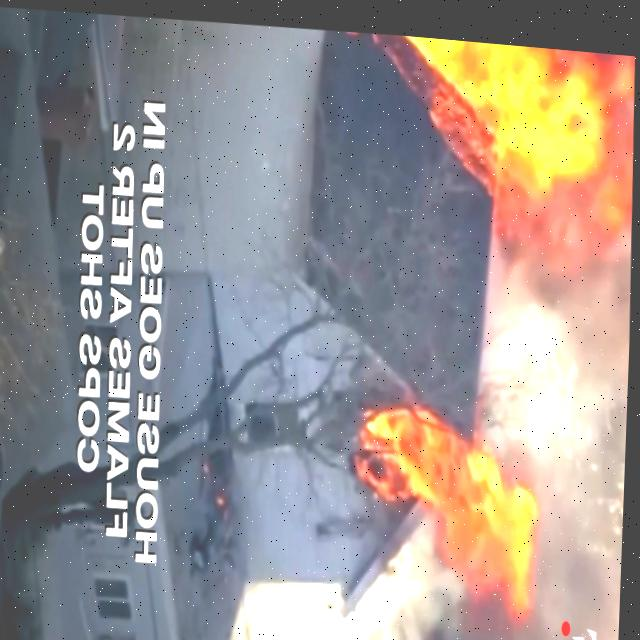Fire: (324, 23, 638, 258), (348, 379, 544, 597)
